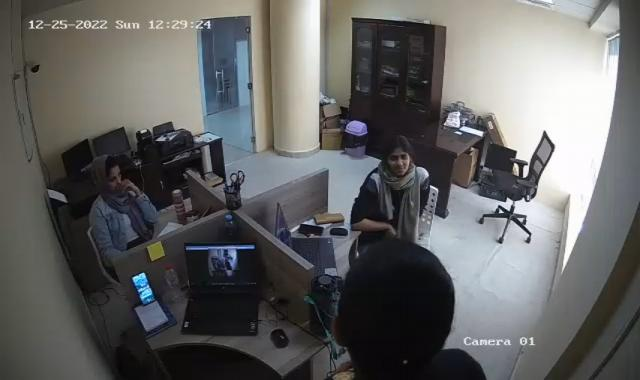no_hairnet: (346, 243, 460, 380), (384, 132, 409, 177), (90, 158, 123, 188)
